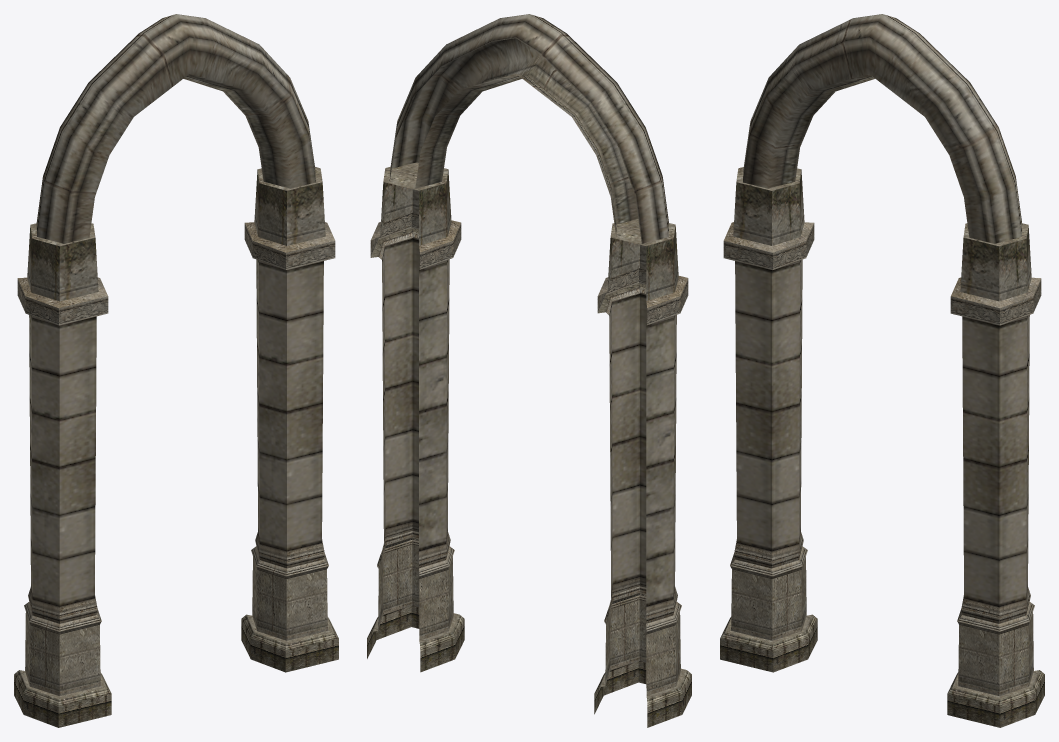
The model's file is SM_Plains_CastleArch_01.FBX.
3 views of the same model, side by side, from view 1: azimuth 30°, elevation 25°; view 2: azimuth 150°, elevation 25°; view 3: azimuth 330°, elevation 25° (orthographic).
Parts seen in each view (by area): view 1: SM_Plains_CastleArch_01; view 2: SM_Plains_CastleArch_01; view 3: SM_Plains_CastleArch_01.
Boxes of the visible parts, x1=… form: SM_Plains_CastleArch_01: x1=14, y1=14, x2=338, y2=727; SM_Plains_CastleArch_01: x1=367, y1=14, x2=691, y2=727; SM_Plains_CastleArch_01: x1=720, y1=14, x2=1044, y2=727.
Size of the model in its own units: 110 by 229 by 27.76.
Materials: 1 (1 with a texture image).
